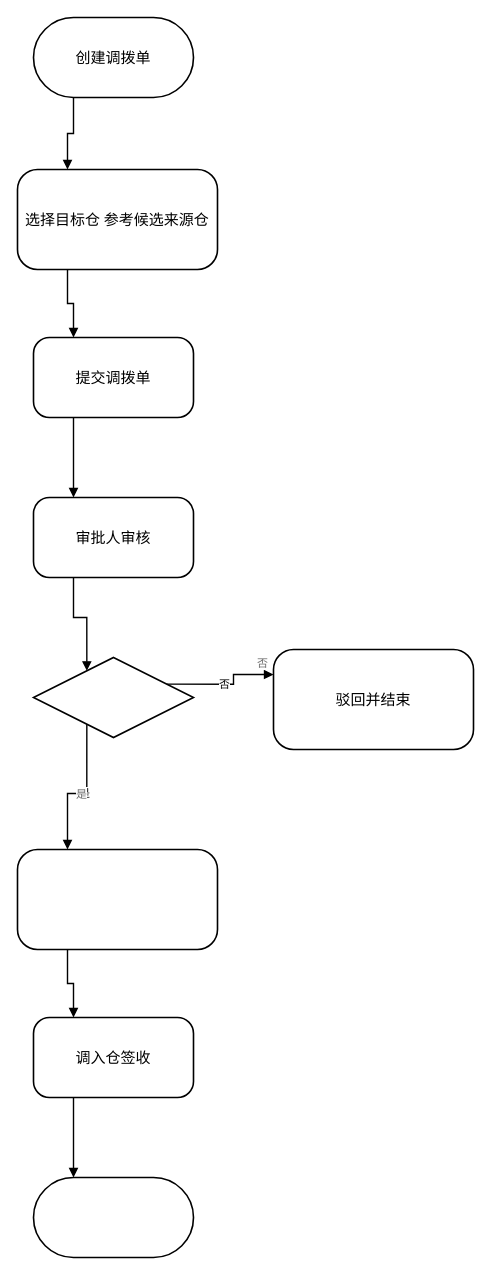
This 492x1276 diagram has some shape labels left out. The centre of each missing label's shape, as x and y in pixels:
"审批通过？" goes at (x=113, y=697).
"执行调拨 同步两端库存" goes at (x=117, y=899).
"状态为 RECEIVED" goes at (x=113, y=1217).
